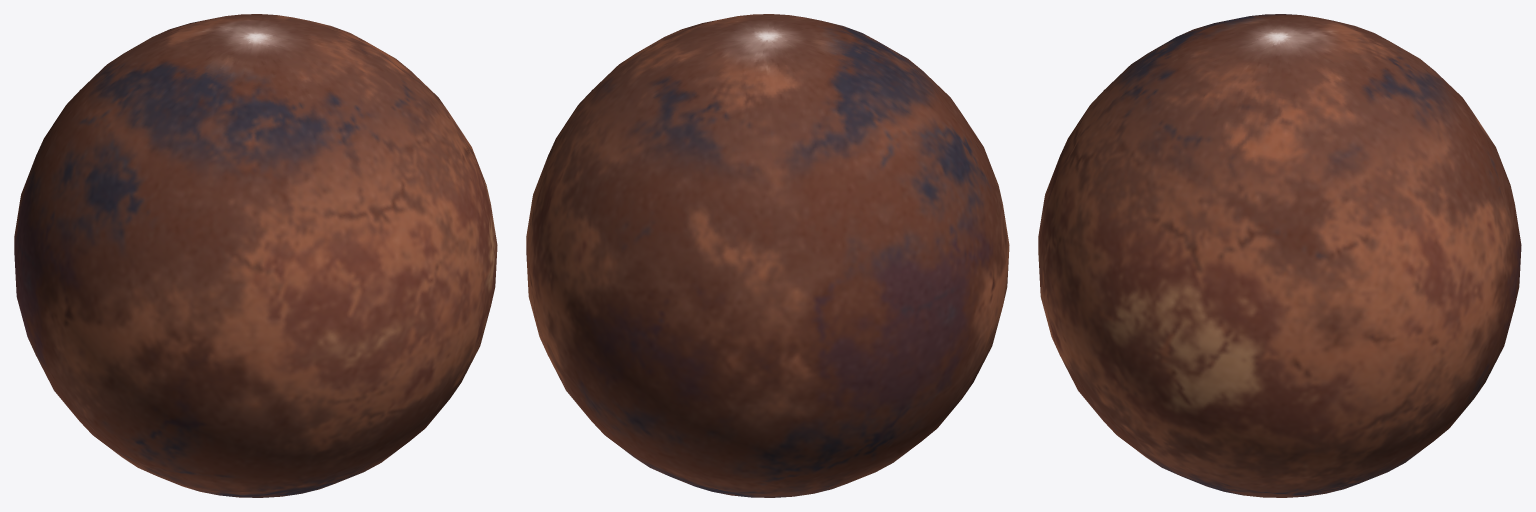
File: shiny_planet.glb
3 renders of one model, left to right at view 1: azimuth 30°, elevation 25°; view 2: azimuth 150°, elevation 25°; view 3: azimuth 270°, elevation 25°, orthographic.
Visible parts, largest first — view 1: Sphere001; view 2: Sphere001; view 3: Sphere001.
Boxes of the visible parts, x1,y1,x2,y2 form: Sphere001: (14,14,497,497); Sphere001: (526,14,1009,497); Sphere001: (1038,14,1521,497).
Size of the model in its own units: 124 by 124 by 124.
Materials: 1 (1 with a texture image).
